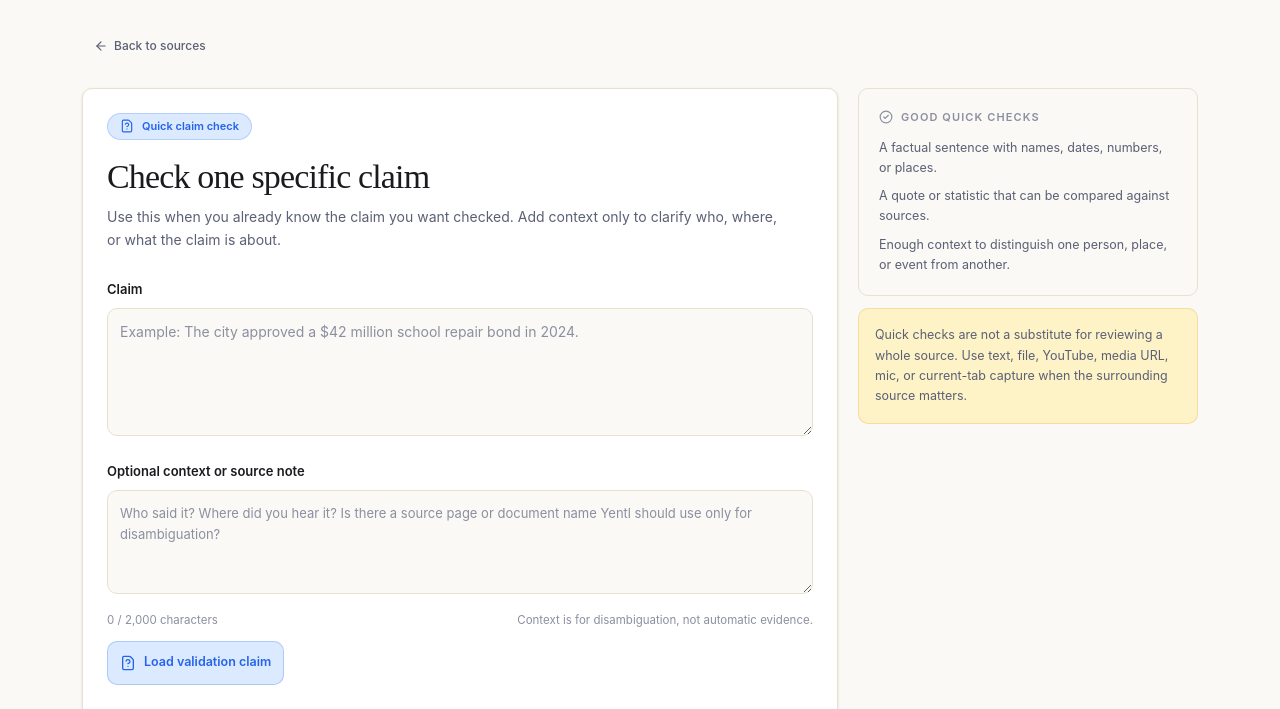
Test case: ClaimQuickCheckPane › asks for a complete factual claim before checking
This screenshot has width=1280, height=709.
Replace the text in the text box labelled "Claim" with "Taxes" at (460, 372), box [107, 308, 813, 436]
(page scrolled)
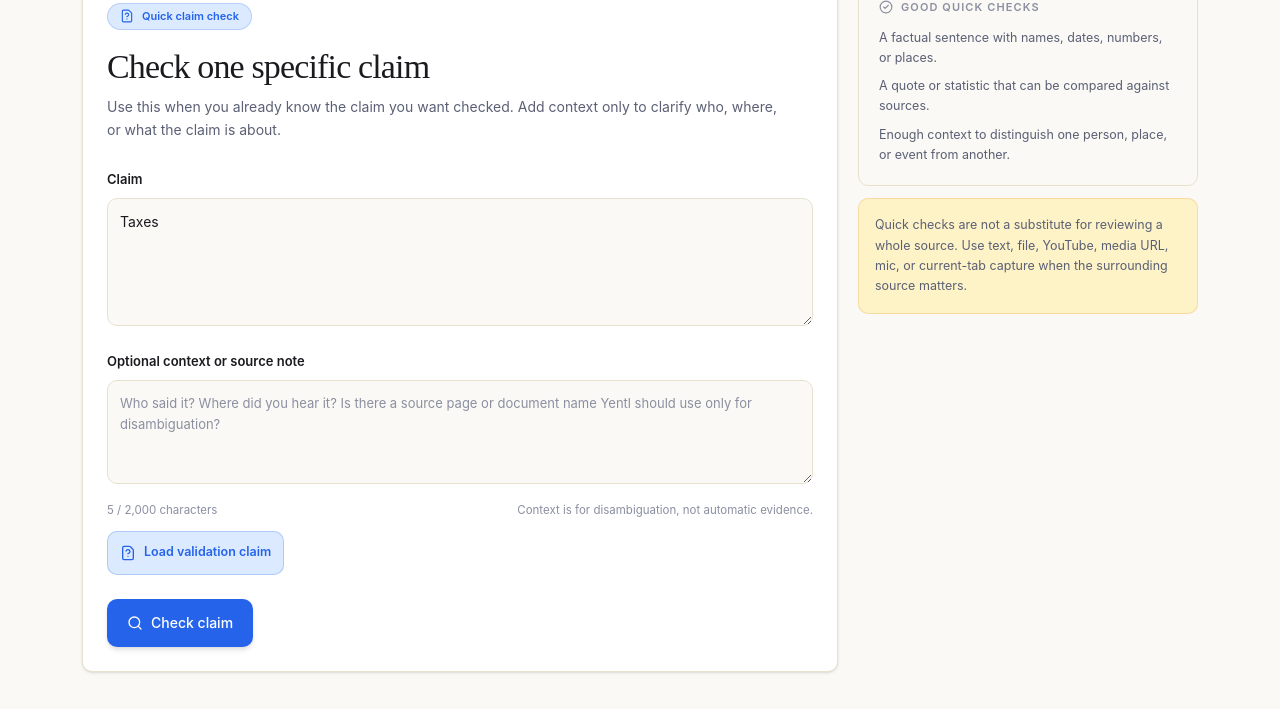
Click the button "Check claim" at (180, 623), box [107, 599, 253, 647]
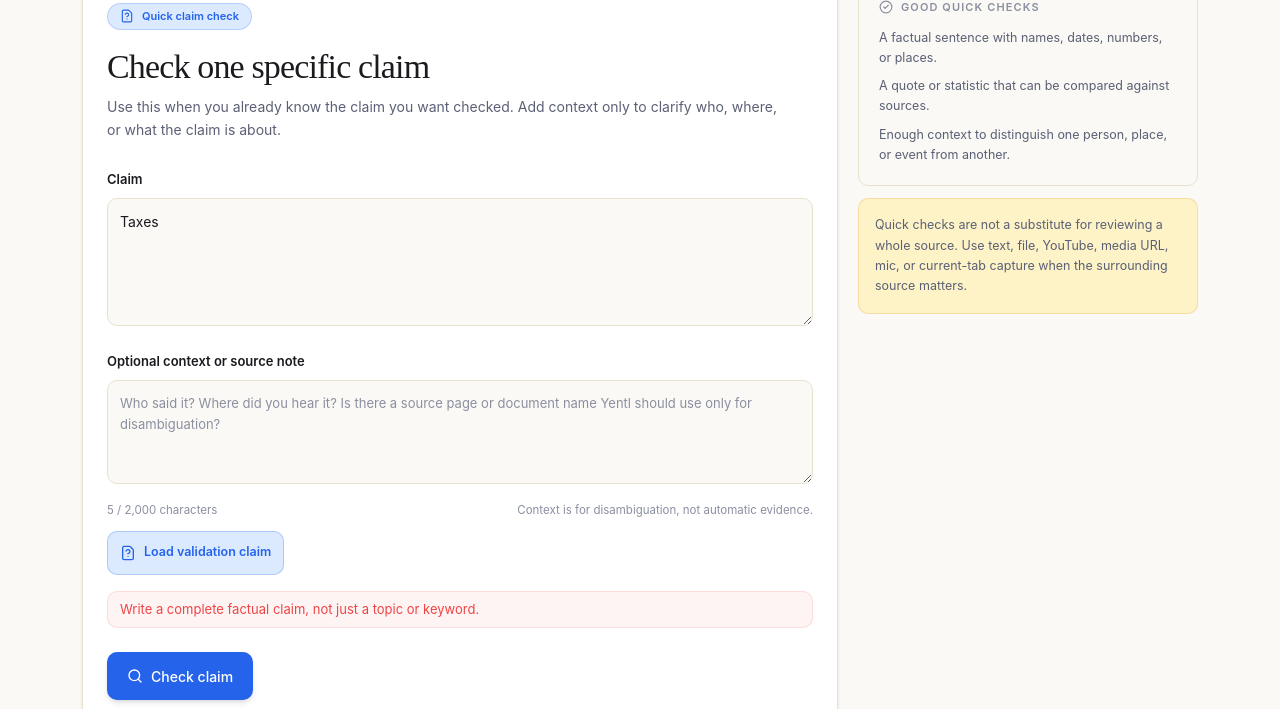
Result: the message shows "complete factual claim" at [120, 601, 479, 617]
